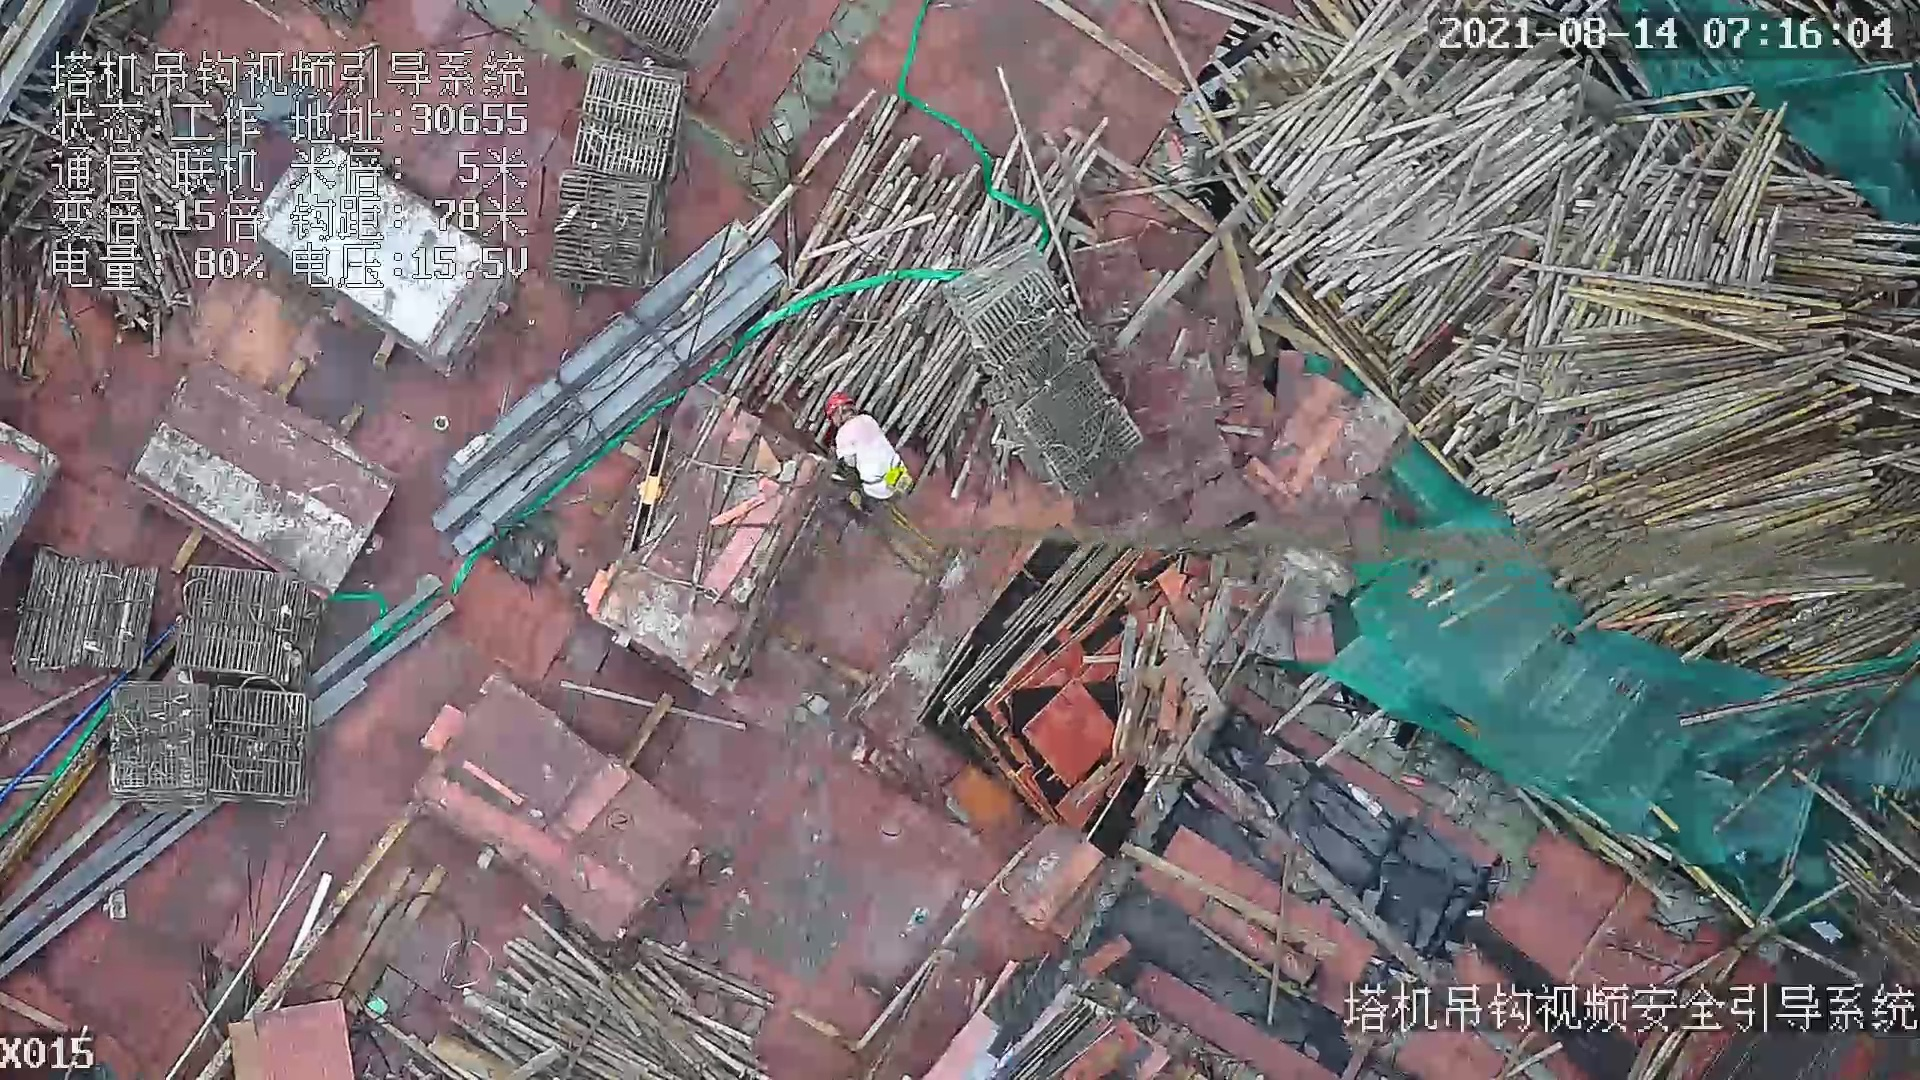helmet: (822, 393, 859, 417)
hook: (623, 419, 669, 562)
person: (822, 380, 923, 523)
